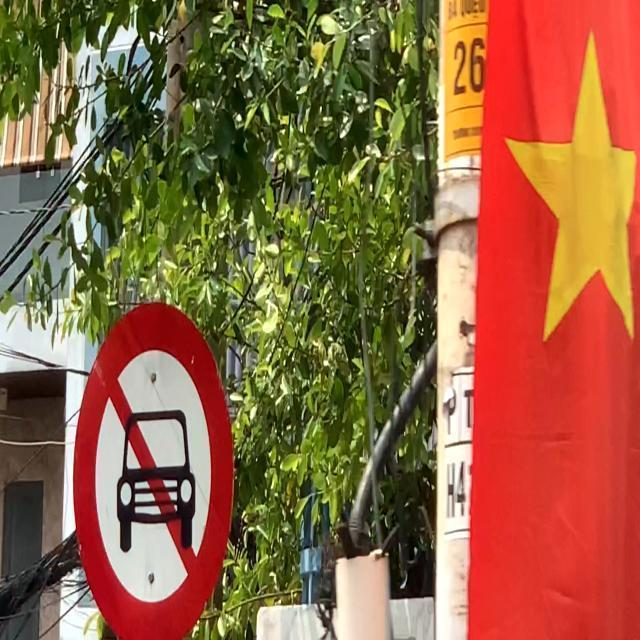103a-cam-oto: (73, 300, 238, 640)
